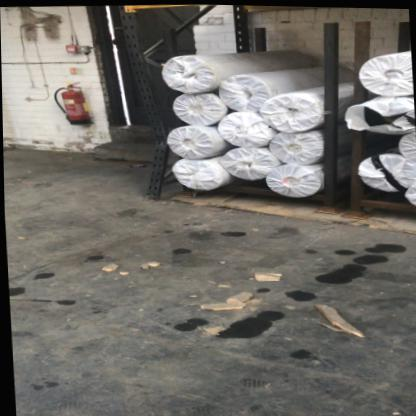vertical_damage: (137, 113, 175, 181)
